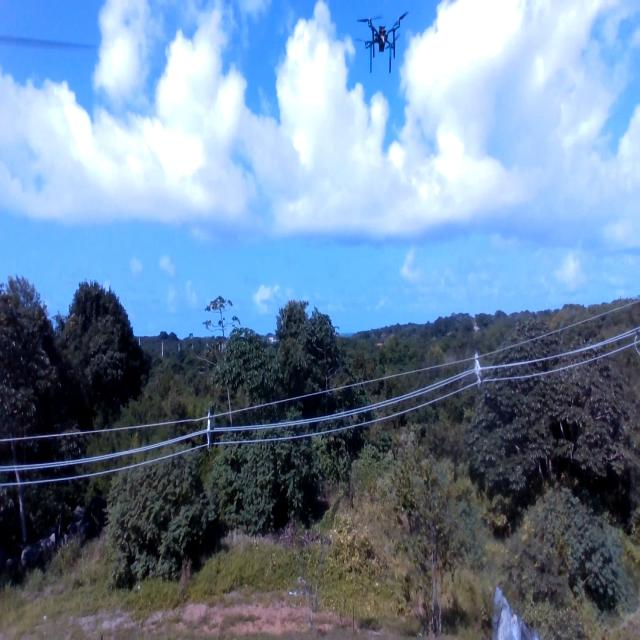-uav-: (347, 3, 416, 78)
